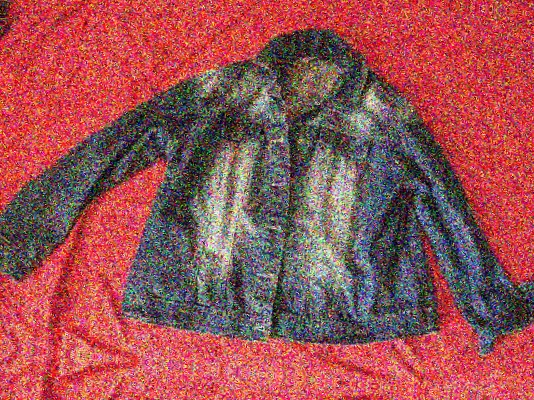Blazer: (0, 0, 534, 363), (0, 386, 520, 400)
